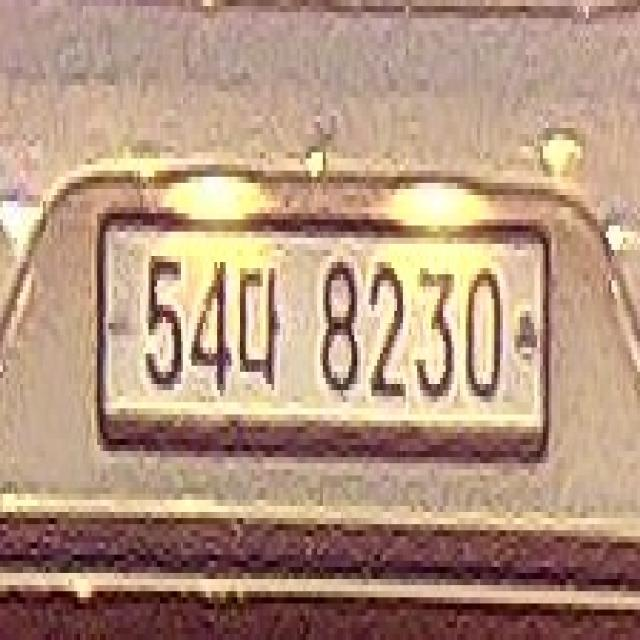0: (463, 244, 514, 414)
2: (360, 232, 417, 420)
3: (411, 256, 463, 396)
4: (186, 225, 237, 408)
5: (137, 220, 186, 390)
8: (311, 225, 360, 408)
da: (231, 256, 283, 396)
license_plate: (89, 195, 554, 488)
